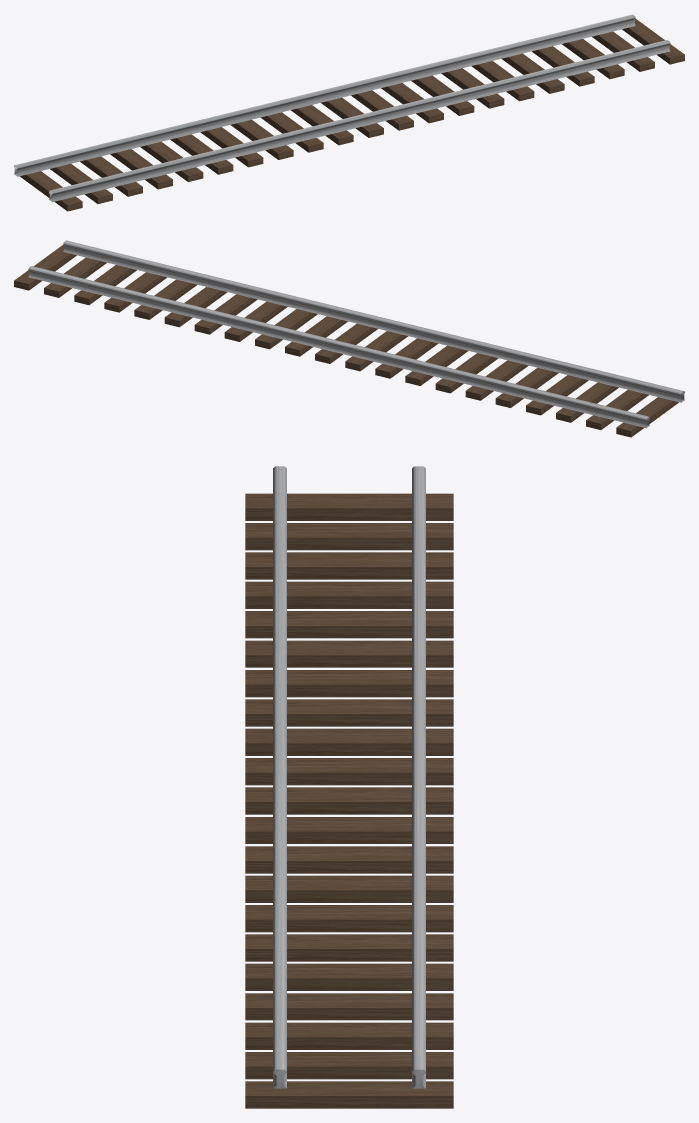
The model's file is railway_track_v2.glb.
3 views of the same model, one above another, from view 1: azimuth 30°, elevation 25°; view 2: azimuth 150°, elevation 25°; view 3: azimuth 270°, elevation 25° (orthographic). The views are drawn at different scales.
Visible parts, largest first — view 1: Railroad track_0; view 2: Railroad track_0; view 3: Railroad track_0.
Part boxes in pixels (x1=…): Railroad track_0: x1=14, y1=14, x2=684, y2=211; Railroad track_0: x1=14, y1=240, x2=684, y2=437; Railroad track_0: x1=245, y1=466, x2=453, y2=1108.
Bounding box in the file's own units: 20.78 × 0.5 × 3.
Materials: 2 (2 with a texture image).
